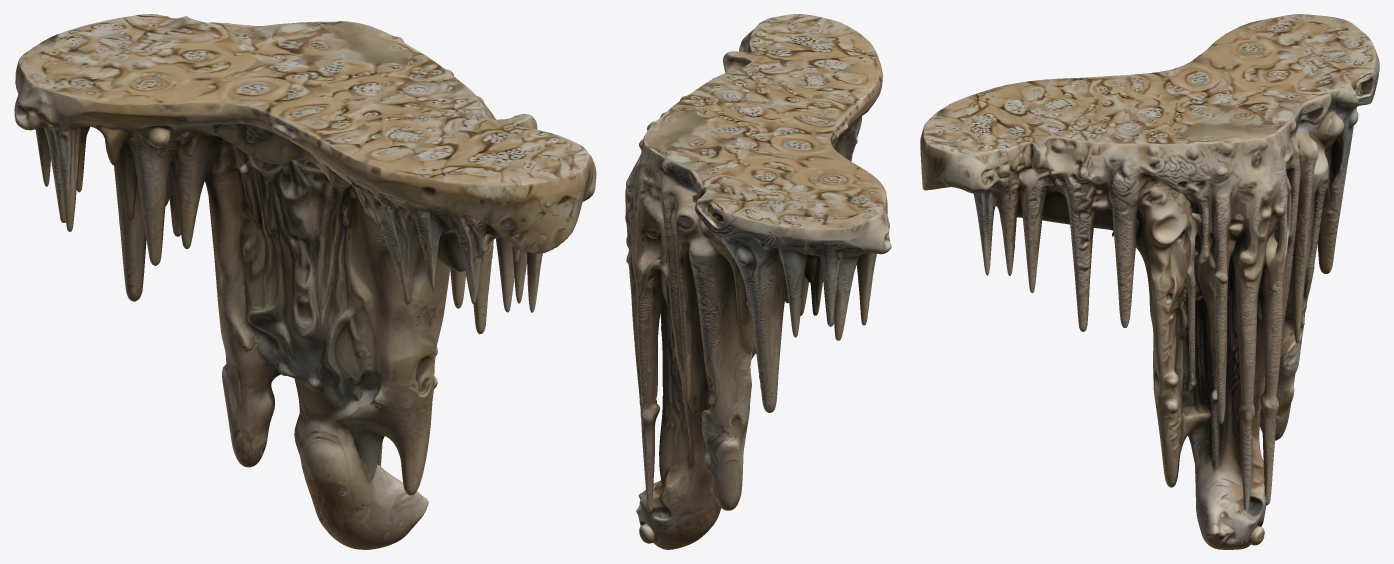
The model's file is nature-stalactite.glb.
3 views of the same model, side by side, from view 1: azimuth 30°, elevation 25°; view 2: azimuth 150°, elevation 25°; view 3: azimuth 270°, elevation 25° (orthographic). The views are drawn at different scales.
Parts seen in each view (by area): view 1: tripo_node_dc222afd-9715-4776-a1e9-7bf1b97e1da2; view 2: tripo_node_dc222afd-9715-4776-a1e9-7bf1b97e1da2; view 3: tripo_node_dc222afd-9715-4776-a1e9-7bf1b97e1da2.
Part boxes in pixels (x1,y1,x2,y2): tripo_node_dc222afd-9715-4776-a1e9-7bf1b97e1da2: [14, 14, 596, 549]; tripo_node_dc222afd-9715-4776-a1e9-7bf1b97e1da2: [625, 14, 891, 549]; tripo_node_dc222afd-9715-4776-a1e9-7bf1b97e1da2: [920, 14, 1379, 549].
Bounding box in the file's own units: 2.35 × 3 × 3.
Materials: 1 (1 with a texture image).
